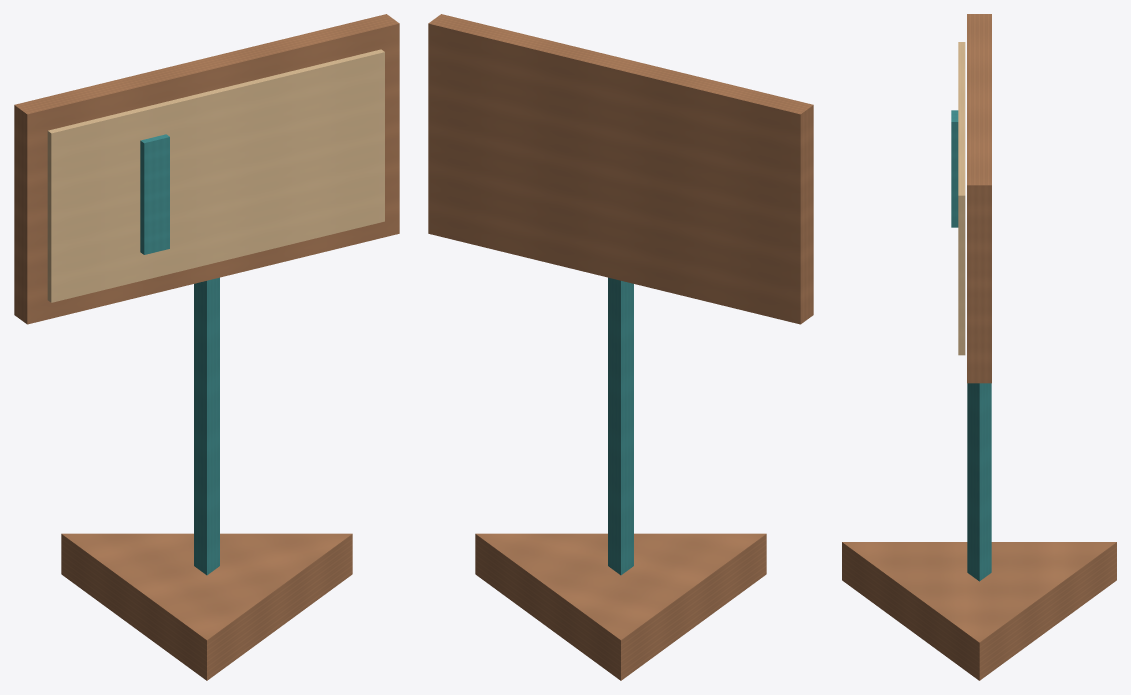
File: atlas100-s092-a11.lod2.glb
3 renders of one model, left to right at view 1: azimuth 30°, elevation 25°; view 2: azimuth 150°, elevation 25°; view 3: azimuth 270°, elevation 25°, orthographic. The views are drawn at different scales.
Parts seen in each view (by area): view 1: atlas100-s092-a11:part-003, atlas100-s092-a11:part-002, atlas100-s092-a11:part-000, atlas100-s092-a11:part-001, atlas100-s092-a11:part-004; view 2: atlas100-s092-a11:part-002, atlas100-s092-a11:part-000, atlas100-s092-a11:part-001; view 3: atlas100-s092-a11:part-000, atlas100-s092-a11:part-002, atlas100-s092-a11:part-001, atlas100-s092-a11:part-003, atlas100-s092-a11:part-004.
Part boxes in pixels (x1=…): atlas100-s092-a11:part-003: x1=47, y1=49, x2=384, y2=302; atlas100-s092-a11:part-002: x1=14, y1=14, x2=399, y2=324; atlas100-s092-a11:part-000: x1=61, y1=533, x2=352, y2=680; atlas100-s092-a11:part-001: x1=194, y1=277, x2=219, y2=575; atlas100-s092-a11:part-004: x1=140, y1=134, x2=169, y2=254; atlas100-s092-a11:part-002: x1=428, y1=14, x2=813, y2=324; atlas100-s092-a11:part-000: x1=475, y1=533, x2=766, y2=680; atlas100-s092-a11:part-001: x1=608, y1=277, x2=633, y2=575; atlas100-s092-a11:part-000: x1=842, y1=542, x2=1116, y2=680; atlas100-s092-a11:part-002: x1=967, y1=14, x2=991, y2=383; atlas100-s092-a11:part-001: x1=967, y1=383, x2=991, y2=581; atlas100-s092-a11:part-003: x1=958, y1=42, x2=965, y2=355; atlas100-s092-a11:part-004: x1=951, y1=110, x2=958, y2=227.
Size of the model in its own units: 1.15 by 1.61 by 0.7794.
Materials: 3 (3 with a texture image).
